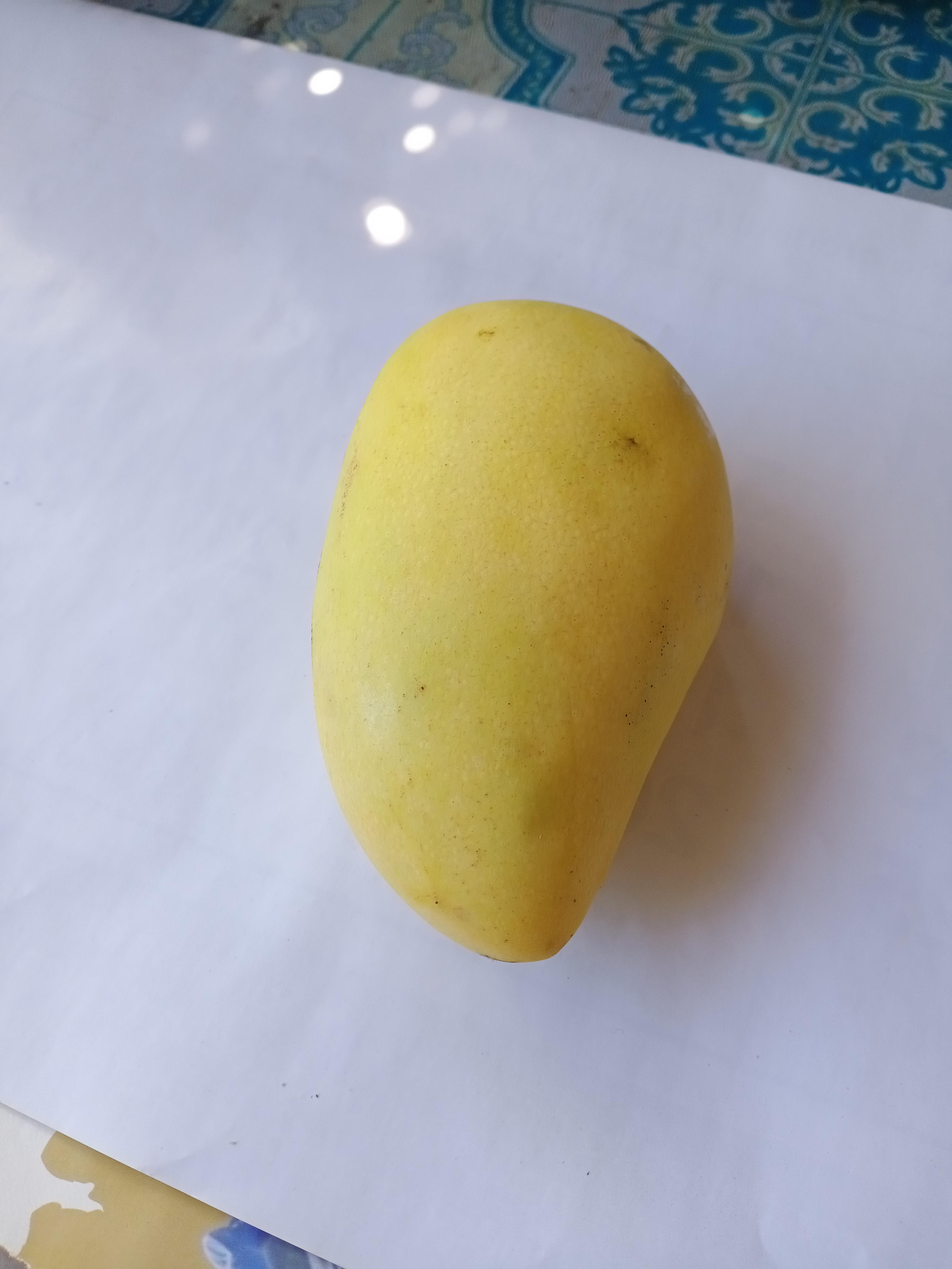Mango Ripe: (264, 240, 793, 1011)
